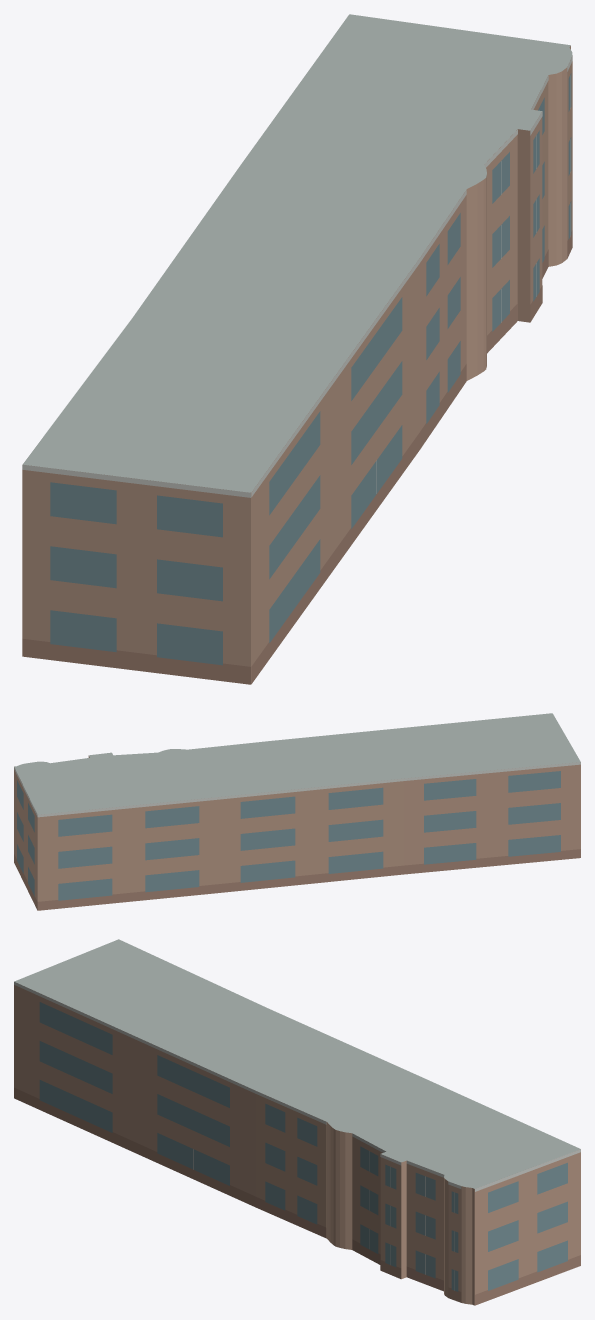
File: survey-upis-32692629.glb
3 views of the same model, one above another, from view 1: azimuth 30°, elevation 25°; view 2: azimuth 150°, elevation 25°; view 3: azimuth 270°, elevation 25° (orthographic). The views are drawn at different scales.
Visible parts, largest first — view 1: survey-upis-32692629.tmp; view 2: survey-upis-32692629.tmp; view 3: survey-upis-32692629.tmp.
Boxes of the visible parts, <box> form: survey-upis-32692629.tmp: <box>22,14,572,684</box>; survey-upis-32692629.tmp: <box>14,713,580,910</box>; survey-upis-32692629.tmp: <box>14,939,580,1305</box>.
Size of the model in its own units: 41.98 by 9.15 by 40.27.
